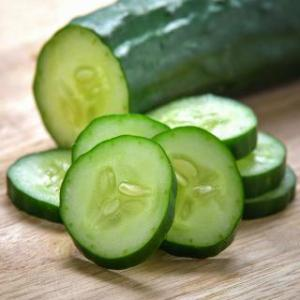cucumber: (32, 0, 300, 146)
